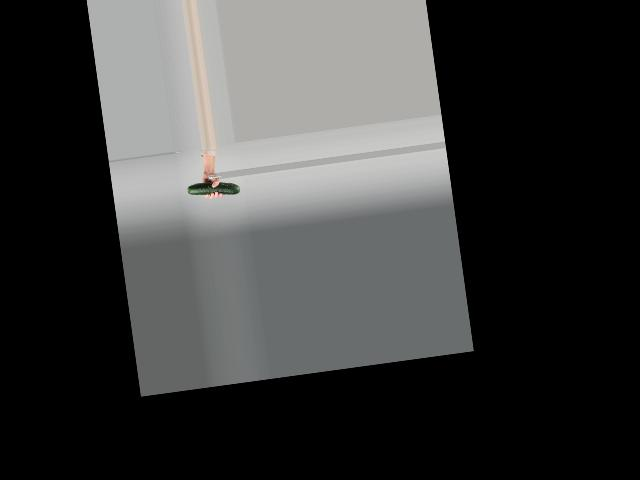cucumber: (188, 177, 240, 200)
